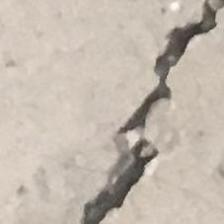Crack: (62, 0, 224, 224)
